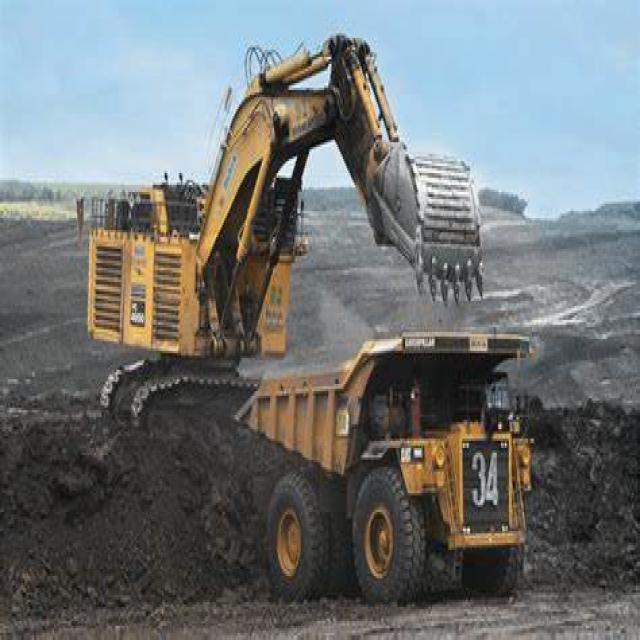dump_truck: (240, 320, 546, 607)
excavator: (65, 19, 497, 453)
